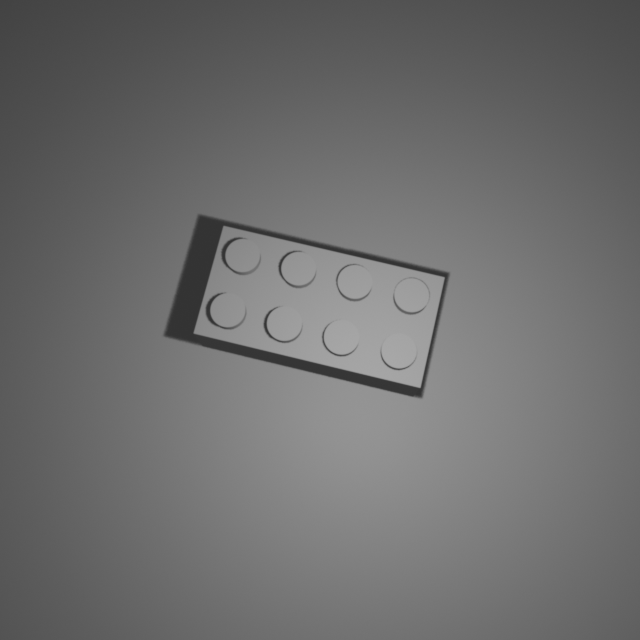lego_2x4: (192, 222, 446, 397)
